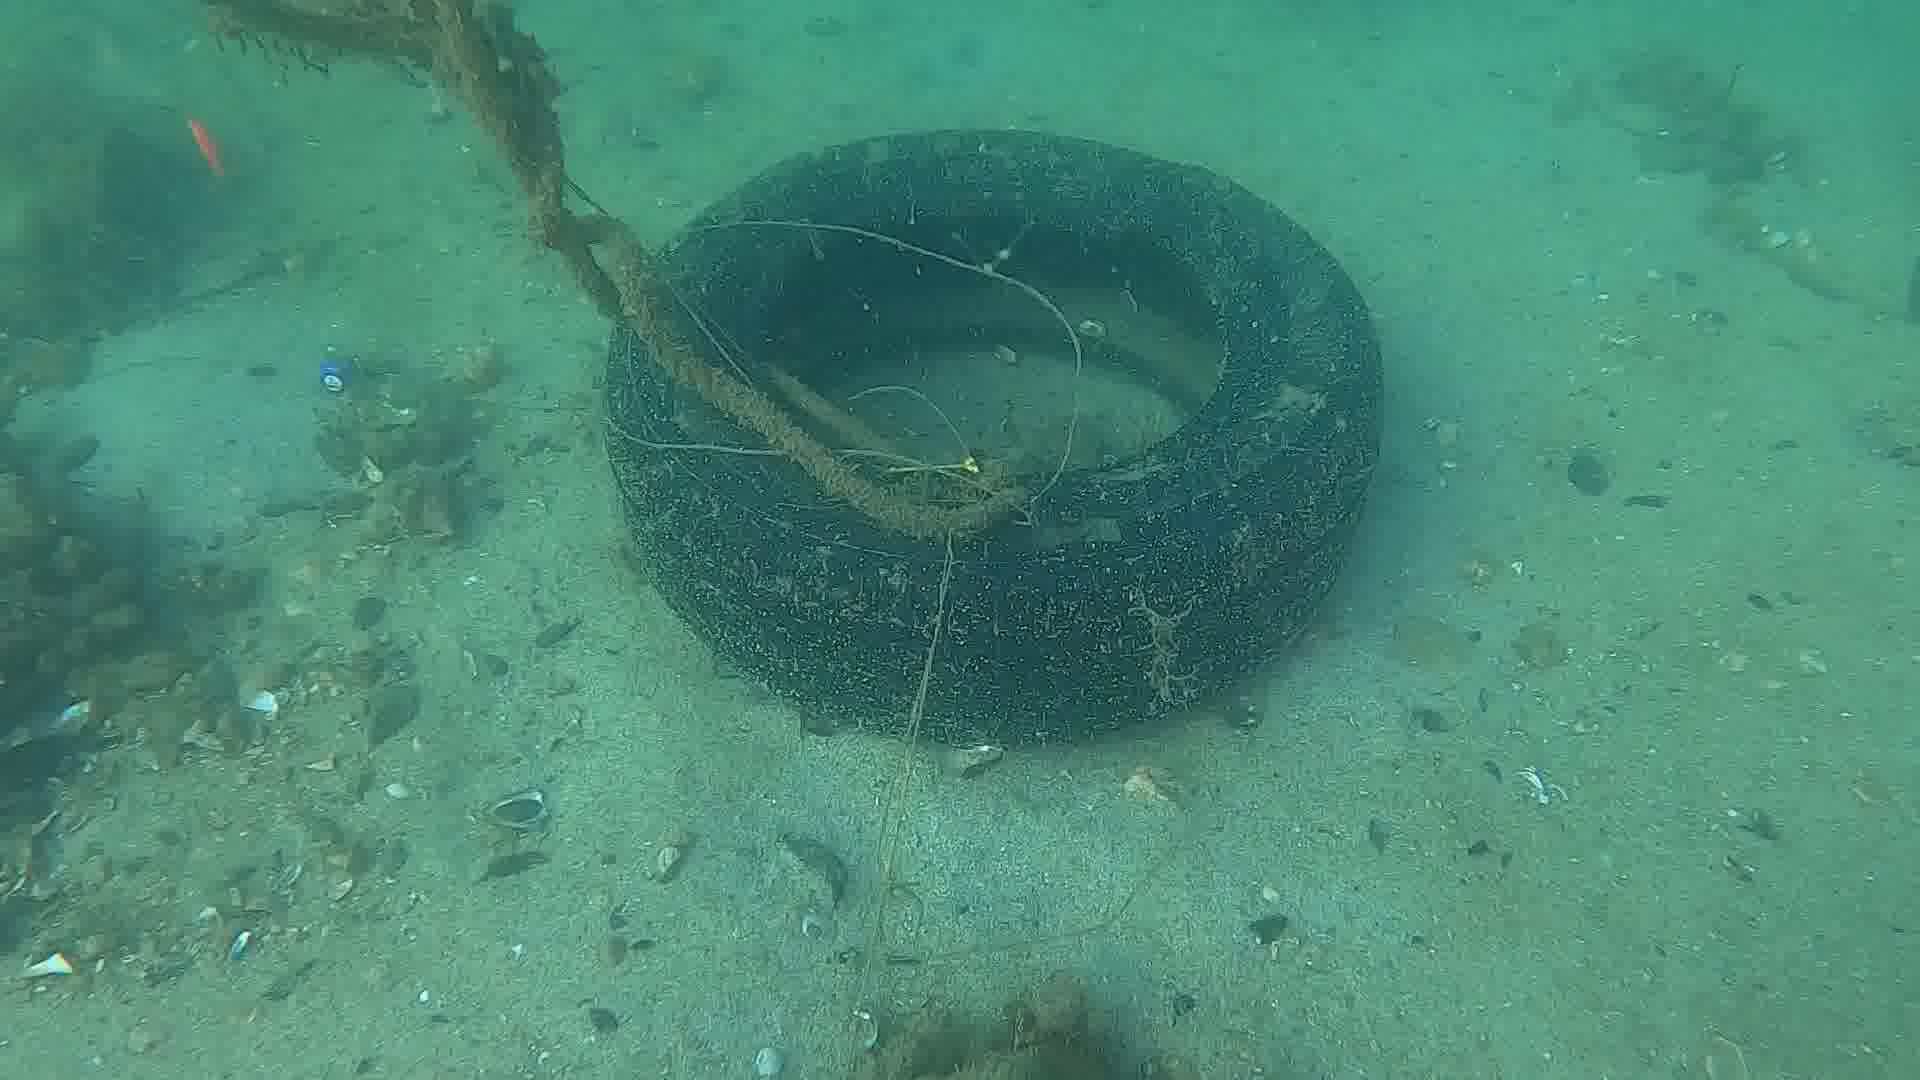bundle of ropes: (206, 0, 1030, 533)
tire: (600, 125, 1387, 738)
